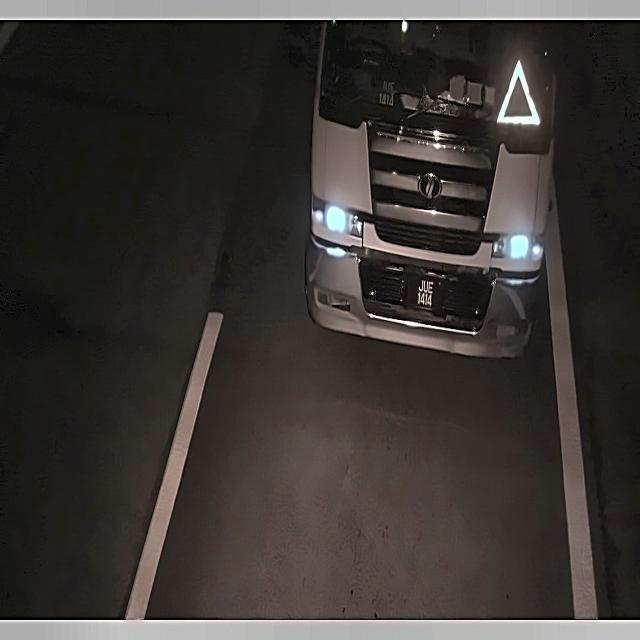car: (400, 267, 454, 318)
